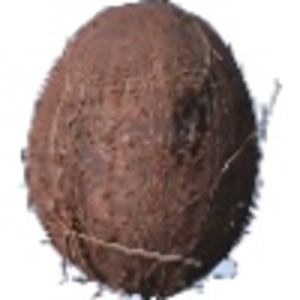coco: (18, 1, 279, 300)
